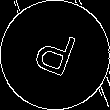P_S: (29, 25, 81, 85)
